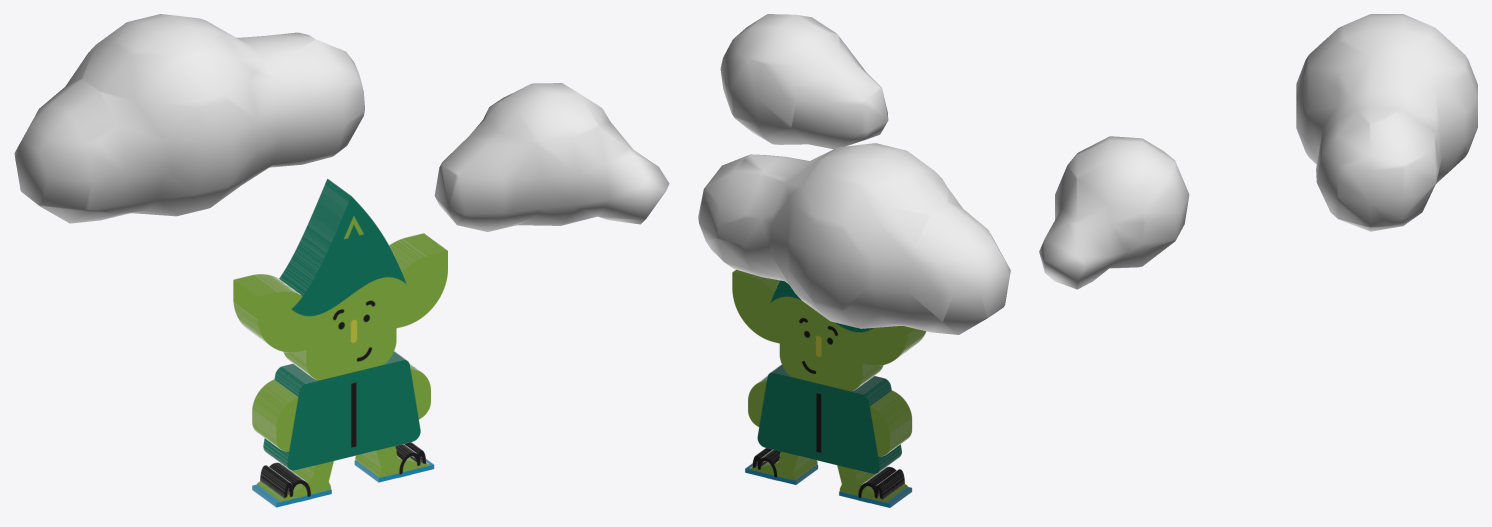
3 views of the same model, side by side, from view 1: azimuth 30°, elevation 25°; view 2: azimuth 150°, elevation 25°; view 3: azimuth 270°, elevation 25° (orthographic). The views are drawn at different scales.
Visible parts, largest first — view 1: Mball.006, elf1@3x; view 2: Mball.006, elf1@3x; view 3: Mball.006.
Boxes of the visible parts, x1,y1,x2,y2 form: Mball.006: [14, 14, 669, 231]; elf1@3x: [233, 178, 447, 507]; Mball.006: [698, 14, 1010, 334]; elf1@3x: [732, 269, 926, 507]; Mball.006: [1039, 14, 1477, 289].
Size of the model in its own units: 1.67 by 1.47 by 1.47.
1 material, 1 textured.
